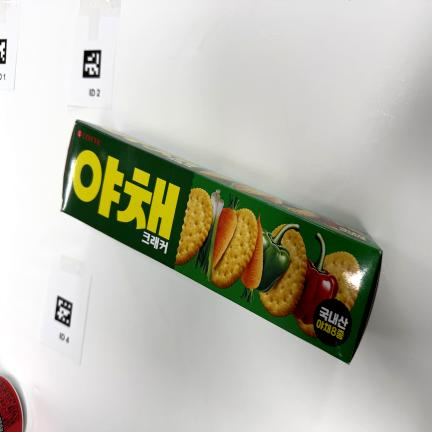cracker_vege: (61, 121, 382, 364)
